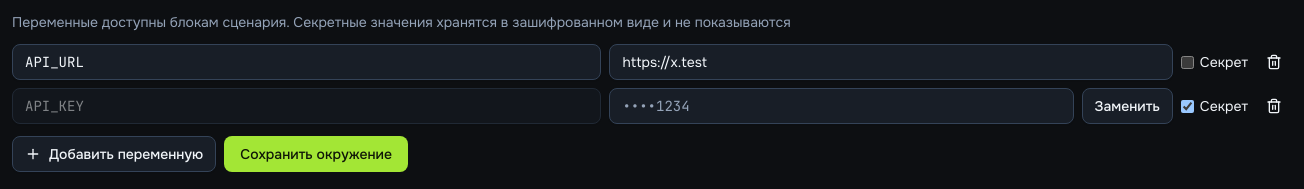
Test: EnvironmentEditor › «Оставить прежнее» возвращает маску
Click the button "Заменить".
click(1127, 106)  # box x1=1082 y1=88 x2=1173 y2=124
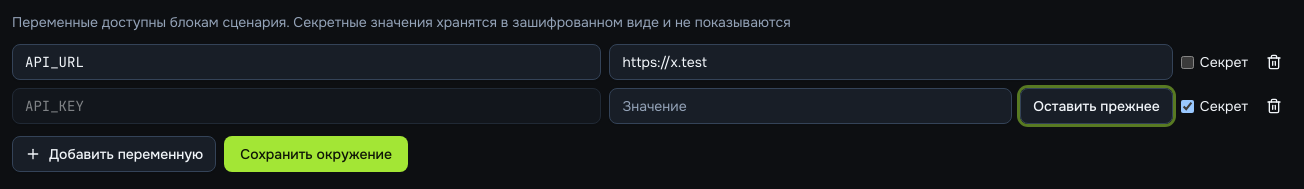
Click the button "Оставить прежнее".
click(1097, 106)  # box x1=1020 y1=88 x2=1173 y2=124
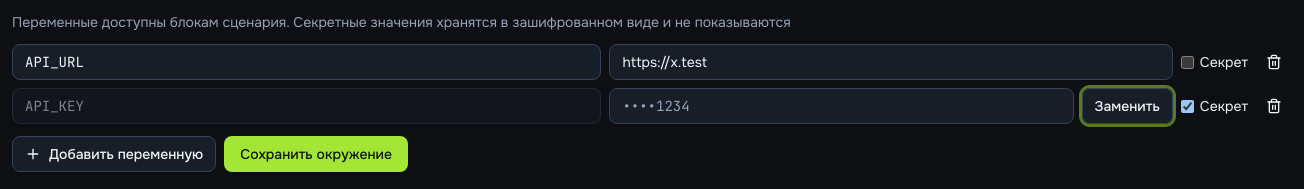
Check: the button "Заменить" is shown, box x1=1082 y1=88 x2=1173 y2=124
